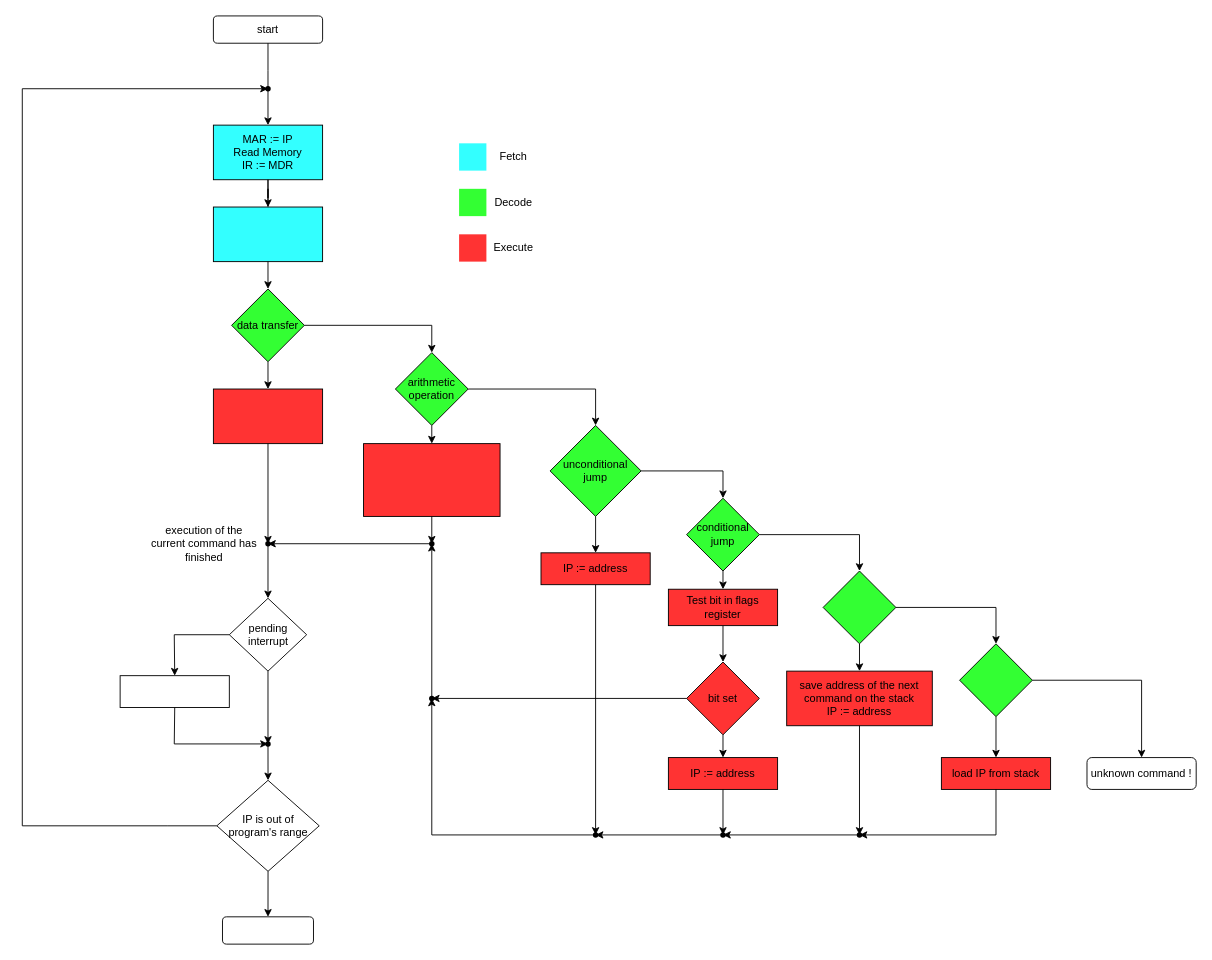
Some shapes in this 1212 by 960 pixel diagram are drawn without their labels. Here are the shapes that lost their labels. From the top down, the box of each, then its label:
(212, 206, 323, 262): IP := IP + command liength
(212, 388, 323, 444): MAR := address Read/Write Memory
(363, 443, 500, 516): MAR := address Read Memory Operand Register := MDR Operation Code -> ALU
(822, 570, 896, 644): subprogram
(119, 675, 229, 708): process interrupt
(959, 643, 1032, 717): return
(222, 916, 313, 944): finish
